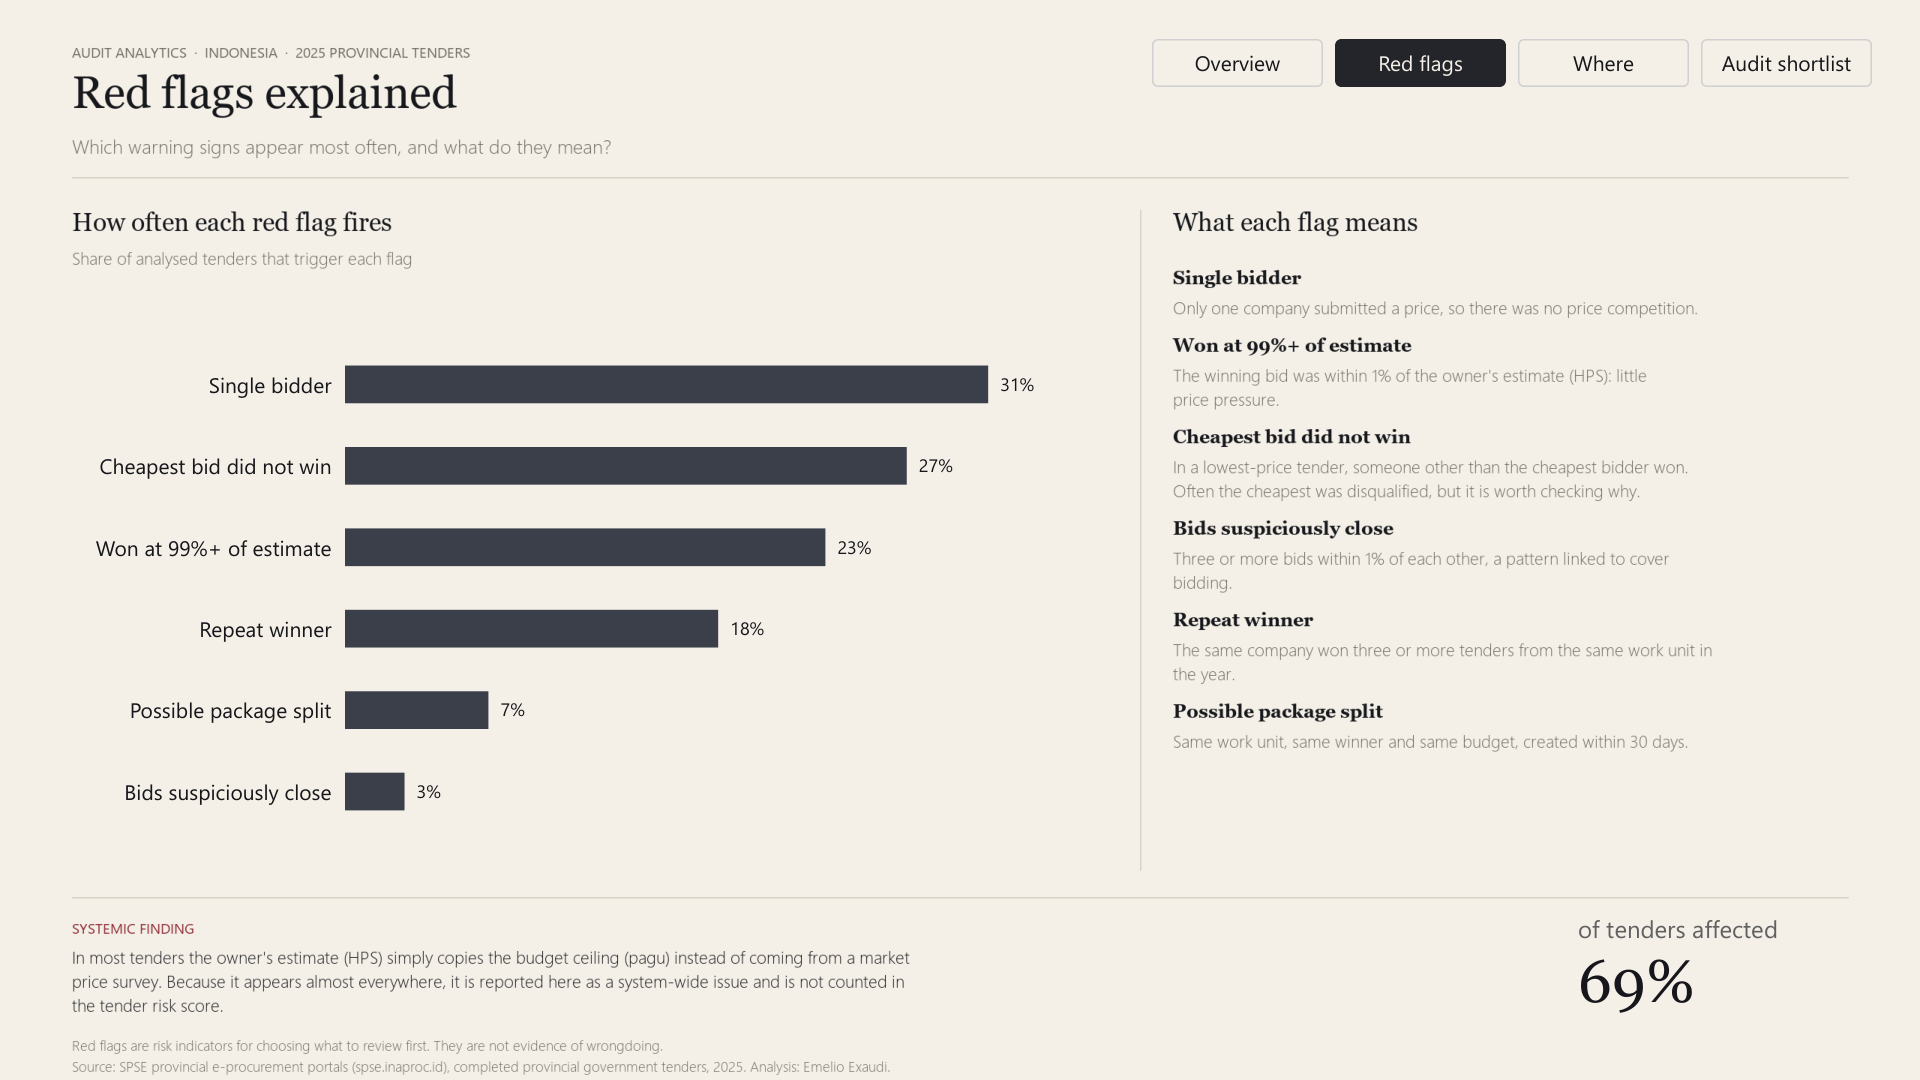

The dashboard page shown, as its layout file describes it:
{"tool":"powerbi","page":{"name":"Red flags","canvas":[1280,720],"ordinal":1},"visuals":[{"type":"clusteredBarChart","fields":{"Category":["flags.flag"],"Y":["flags.Scored Flag Rate"]},"box":[36,200,690,380],"z":0},{"type":"cardVisual","fields":{"Data":["tenders.HPS Copies Pagu %"]},"box":[1036,608,200,70],"z":1},{"type":"pageNavigator","box":[768,26,480,32],"z":2}]}

Visuals, with their boxes in screenshot pixels (x1, y1, x2, y2), scaled from the page's 1280x720 canvas onto the 1920x1080 screenshot:
clusteredBarChart - flags.flag x flags.Scored Flag Rate: bbox=[54, 300, 1089, 870]
cardVisual - tenders.HPS Copies Pagu %: bbox=[1554, 912, 1854, 1017]
pageNavigator: bbox=[1152, 39, 1872, 87]
